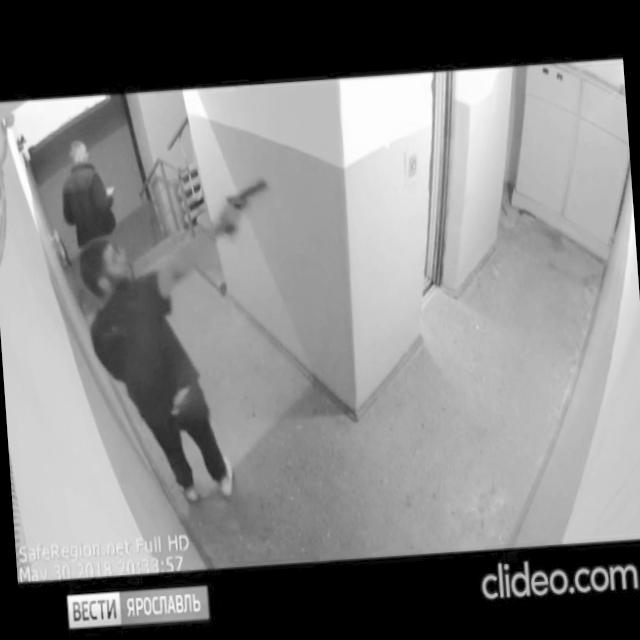gun: (218, 174, 272, 235)
person: (59, 134, 134, 324)
person with a gun: (72, 176, 290, 514)
